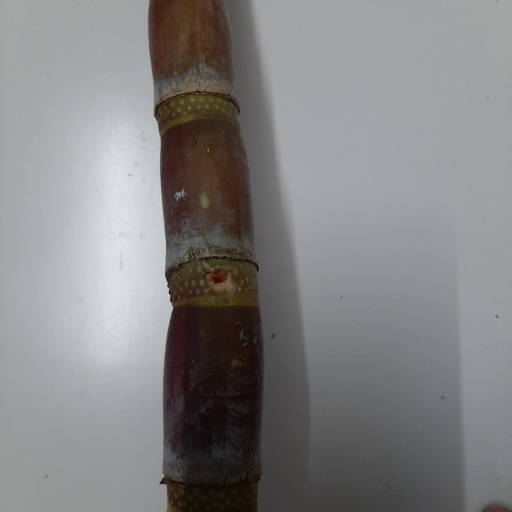Damage_Bud: (205, 266, 235, 293)
